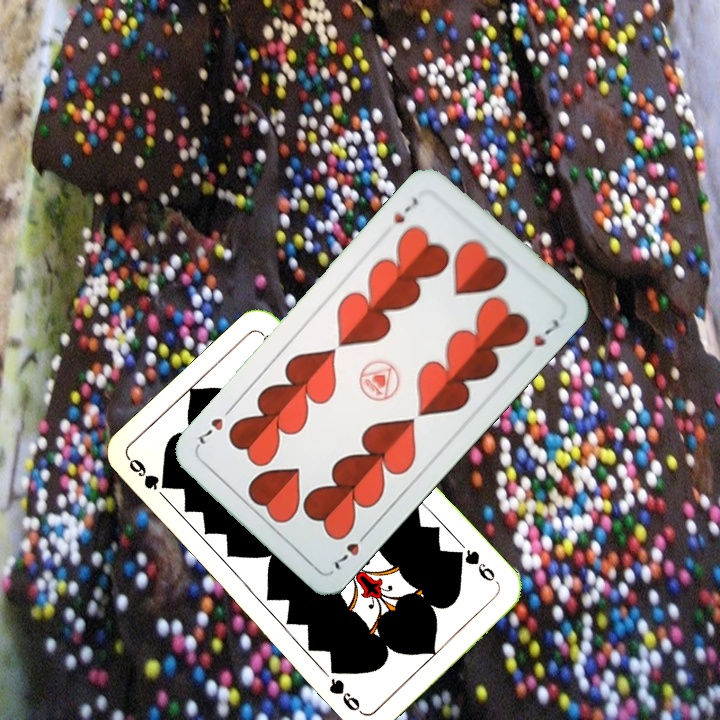G9: (451, 545, 502, 588), (124, 454, 172, 492)
H7: (326, 526, 373, 575), (389, 193, 421, 227)
